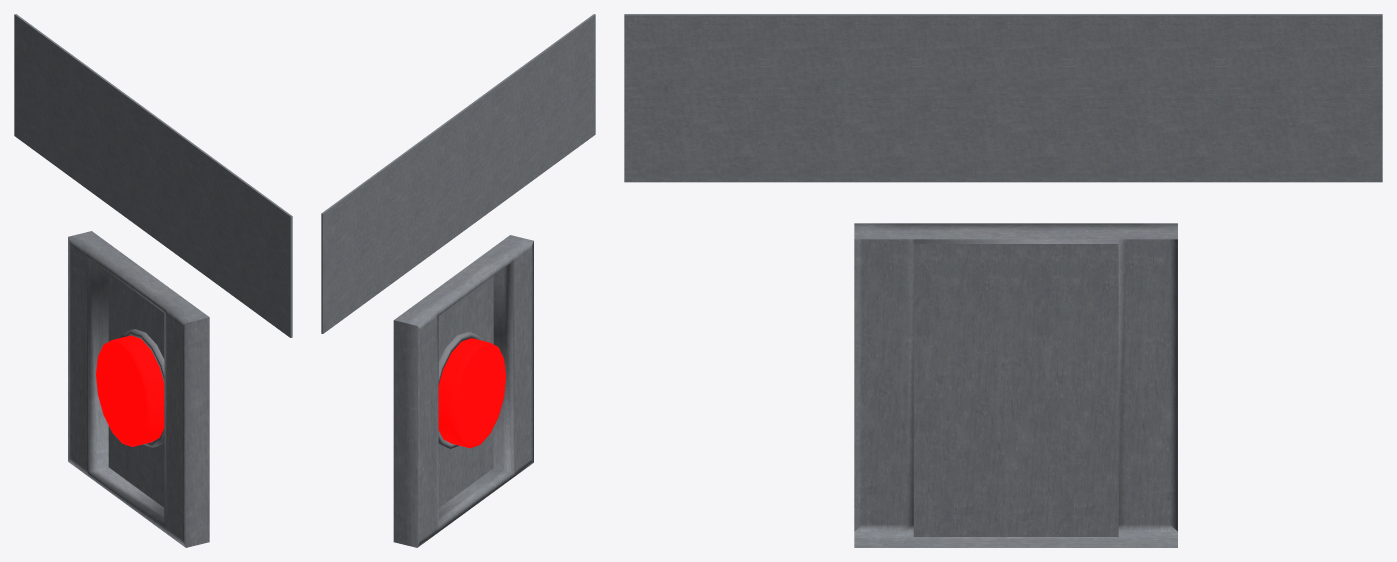
Rendered from Button.fbx.
3 renders of one model, left to right at view 1: azimuth 30°, elevation 25°; view 2: azimuth 150°, elevation 25°; view 3: azimuth 270°, elevation 25°, orthographic. The views are drawn at different scales.
Visible parts, largest first — view 1: Button, Cube; view 2: Button, Cube; view 3: Cube, Button.
Part boxes in pixels (x1,y1,x2,y2): Button: (68,231,209,547); Cube: (14,14,292,337); Button: (393,235,533,547); Cube: (321,14,595,333); Cube: (624,14,1382,182); Button: (854,223,1177,547).
Bounding box in the file's own units: 0.1039 × 1.34 × 1.73.
3 materials, 2 textured.
